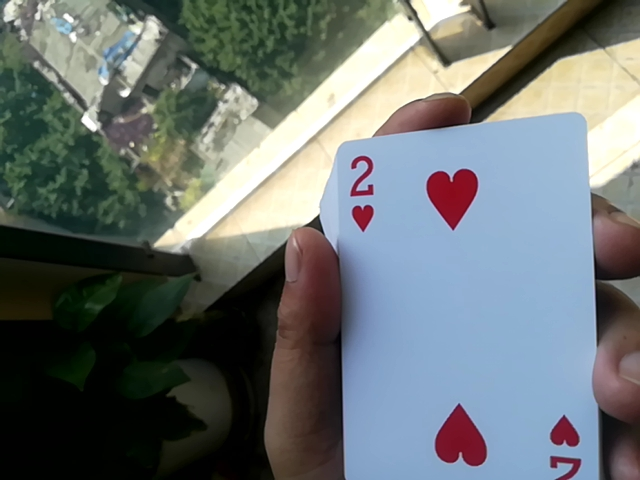hx 2: (310, 121, 616, 478)
